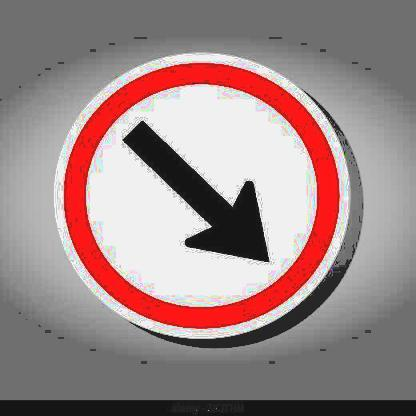Keep right: (54, 51, 356, 342)
